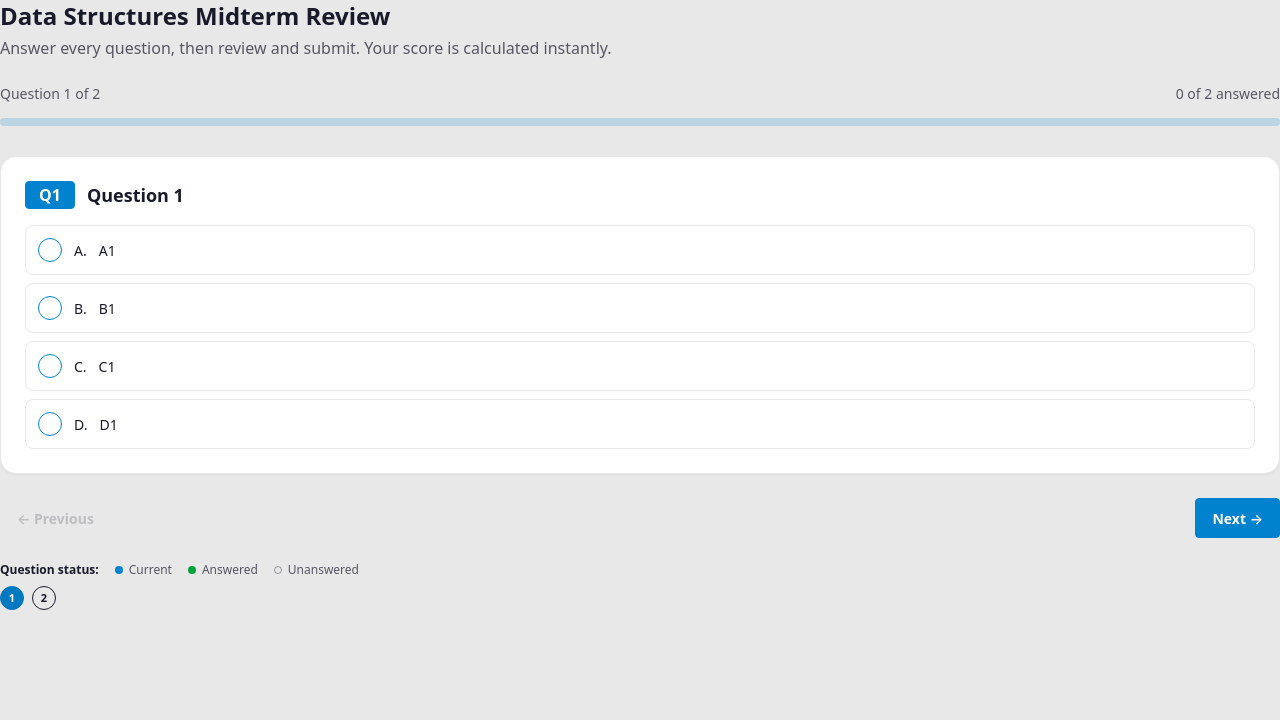
Test case: TakeQuizComponent › shows a submit error and keeps the modal reachable when submission fails
Click the radio button labelled "A. A1": (50, 250) 38,238 -> 62,262
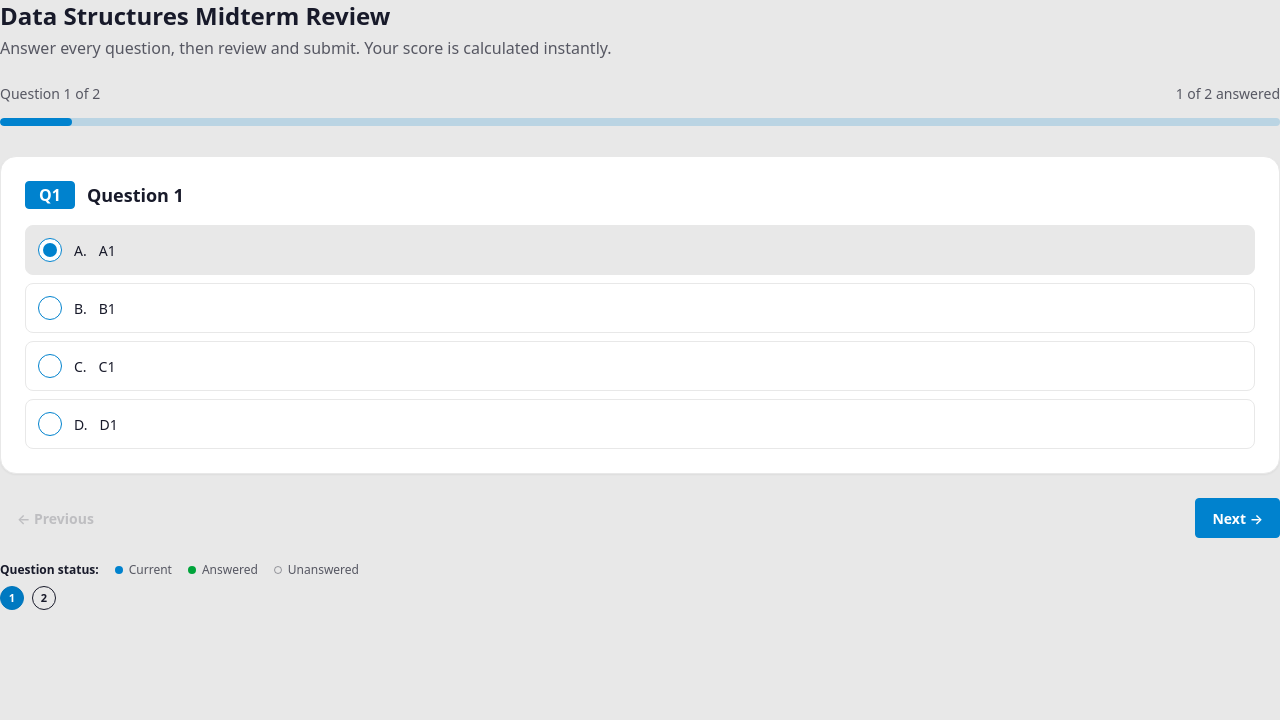
Click the button "Next →": (1238, 518) 1196,498 -> 1279,538
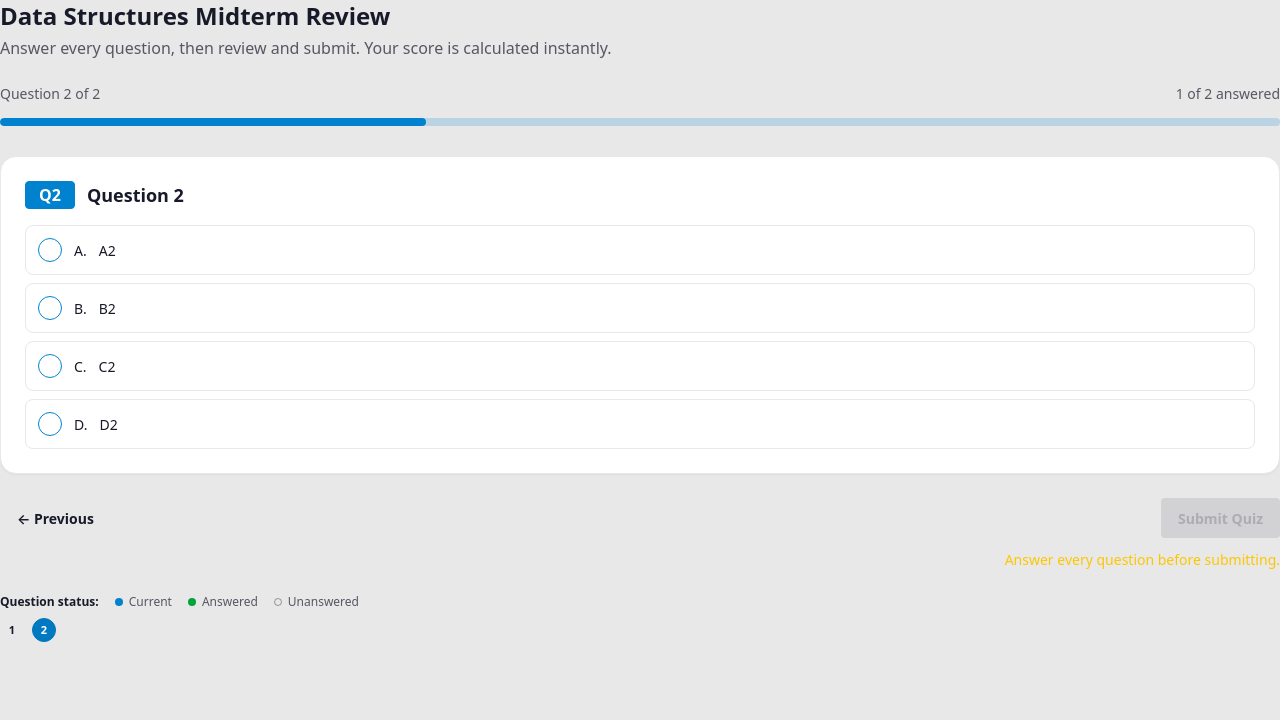
Click the radio button labelled "A. A2": (50, 250) 38,238 -> 62,262
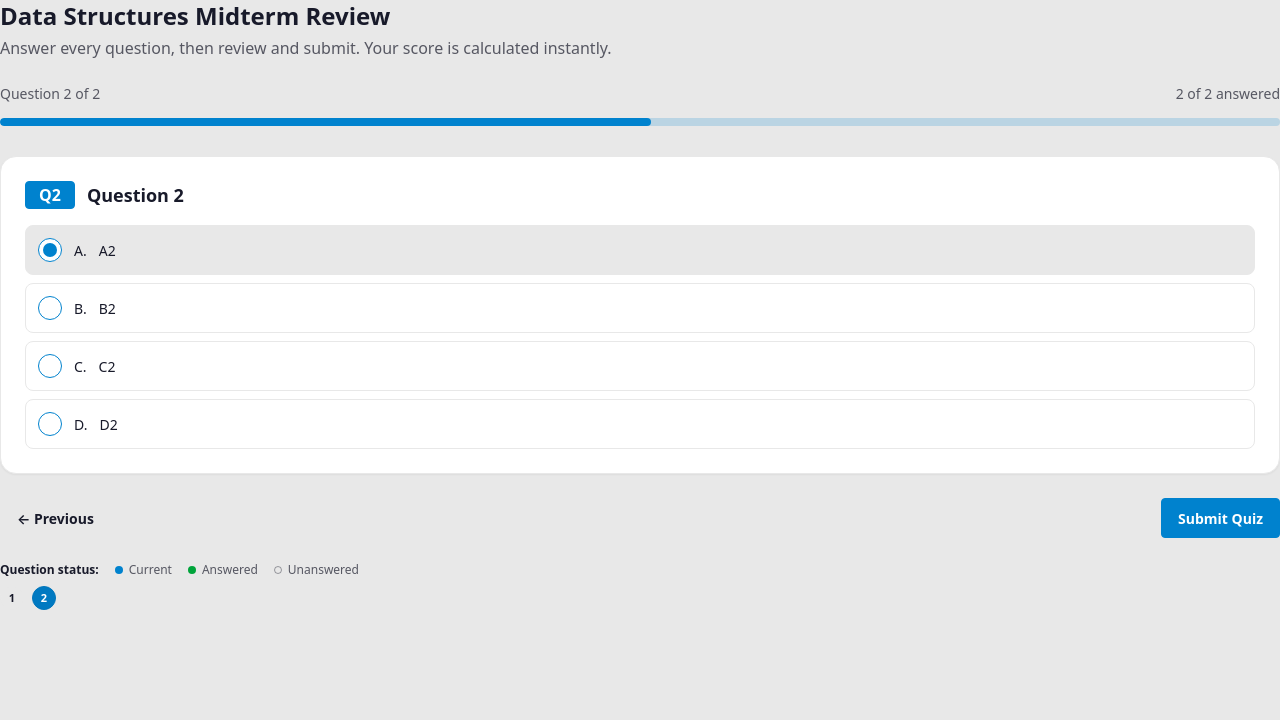
Click the button "Submit Quiz": (1220, 518) 1161,498 -> 1279,538
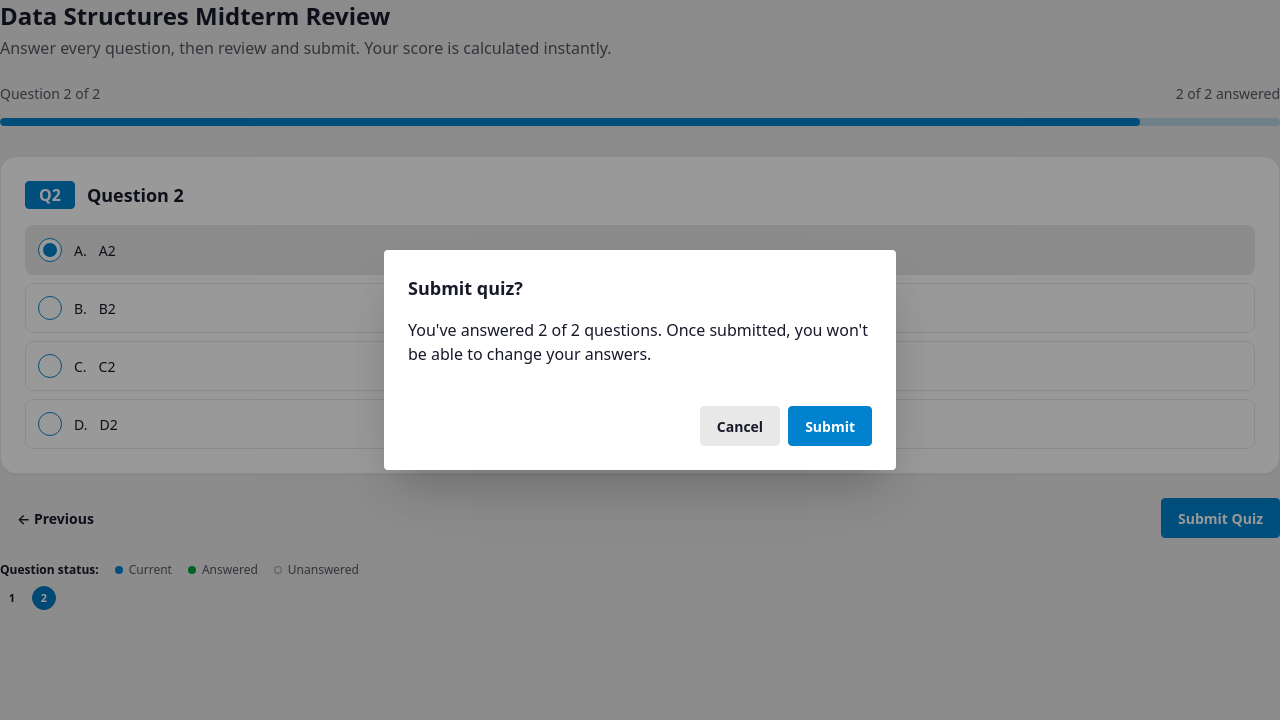
Click the button "Submit": (830, 426) 788,406 -> 872,446
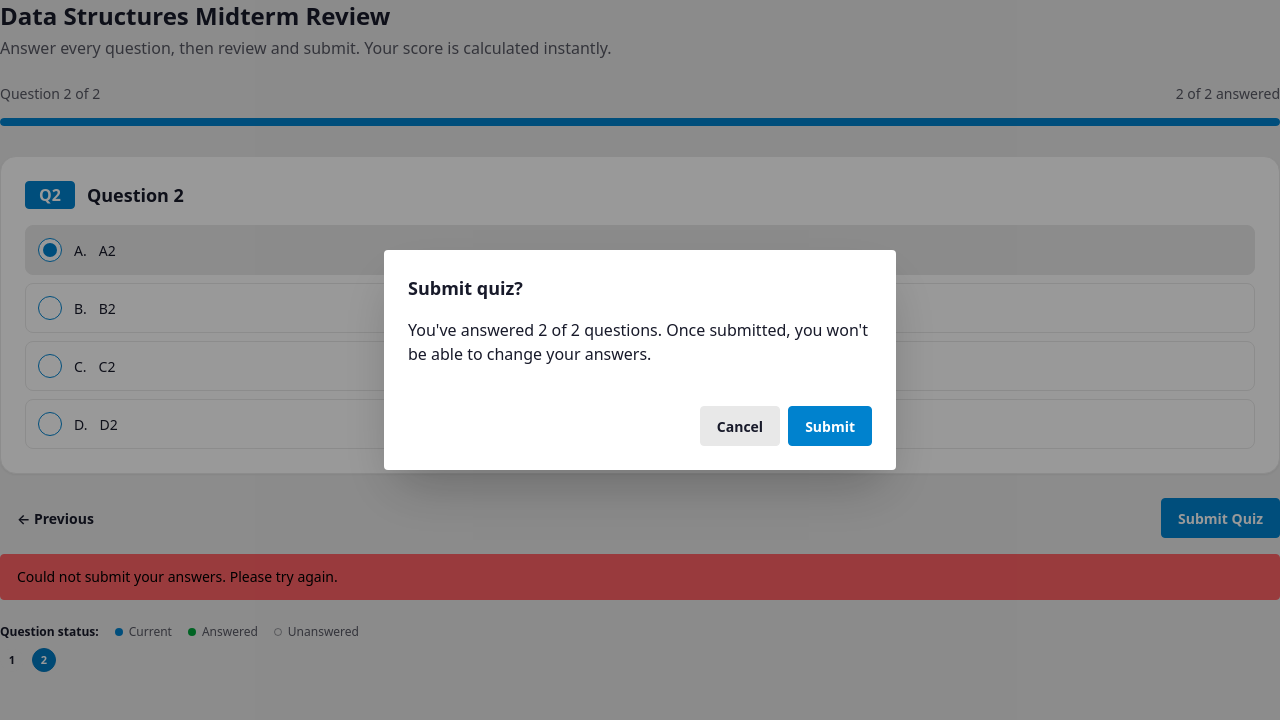
Expected: the text "Could not submit your answers." is shown, 17,567 -> 338,586
